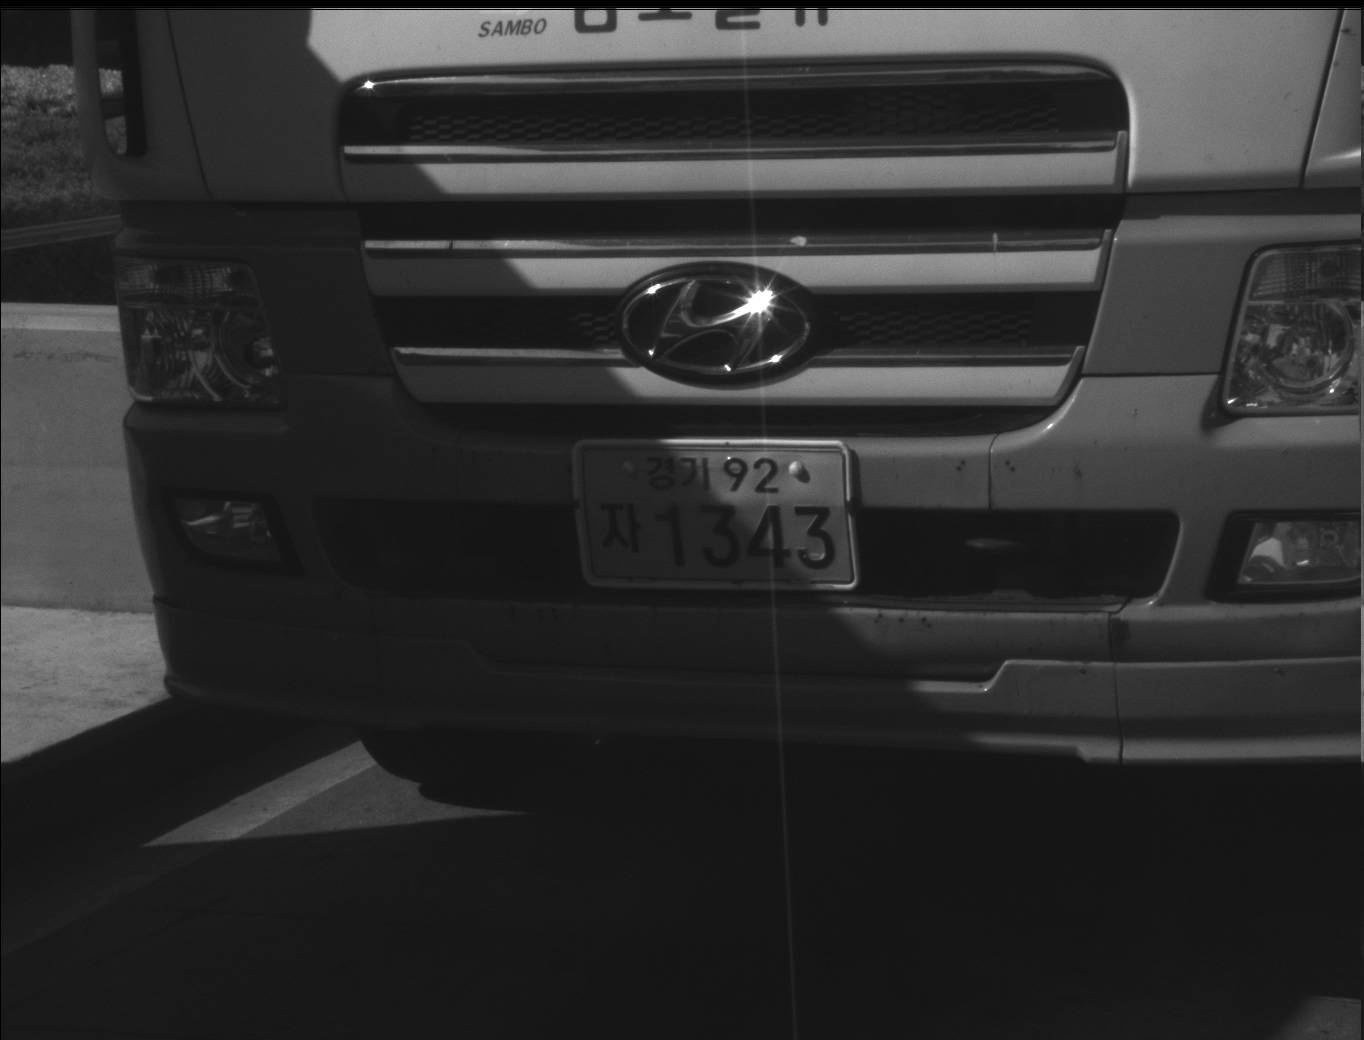car: (63, 1, 1363, 807)
plate: (568, 437, 865, 597)
